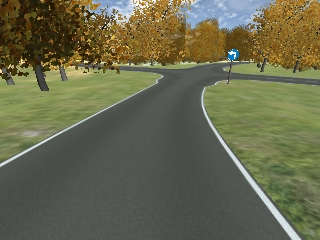left: (226, 50, 238, 60)
